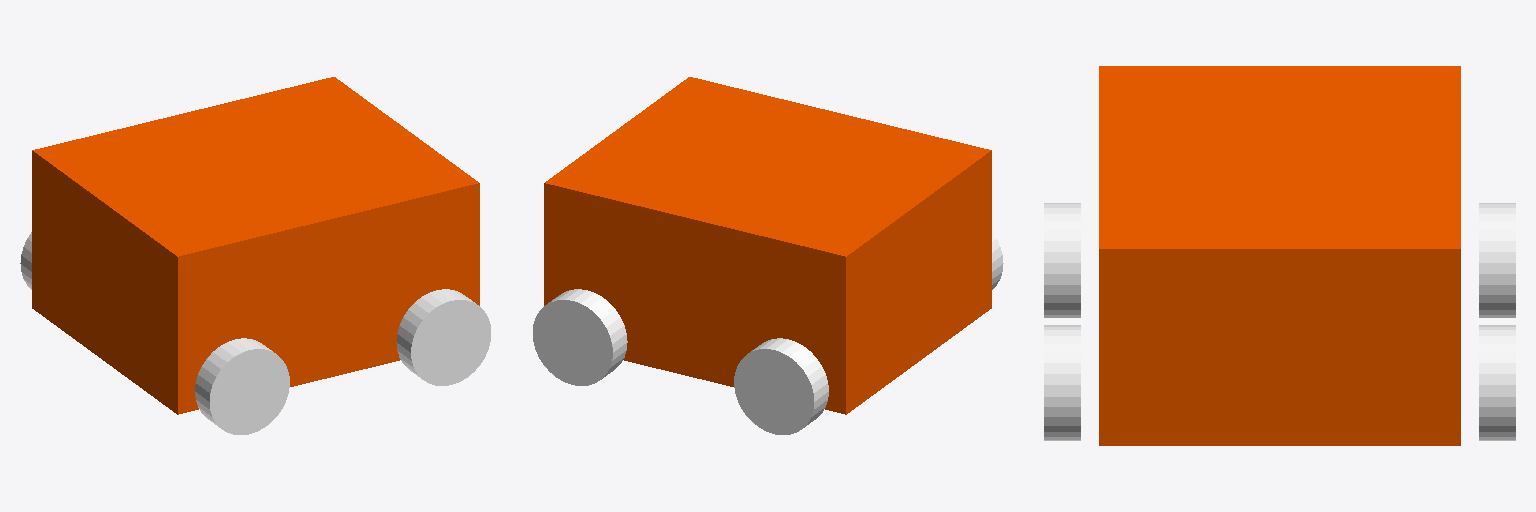
URDF robot description (abot):
<?xml version="1.0"?>
<robot name="abot"> 
<!--********************************xxxxxxxxx********************************-->
<!--********************************base_link********************************-->
	<link name="base_link">
		<visual>
		<origin xyz="0 0 0" rpy="0 0 0"/>
		<geometry>
			<box size="0.30 0.25 0.15"/>
		</geometry>
			<material name="yellow">
				<color rgba="1 0.4 0 0.5"/>
			</material>
		</visual>
	</link>
<!--********************************left_front_link********************************-->
	<link name="left_front_link">
		<visual>
			<origin xyz="0 0 0" rpy="1.5707 0 0"/>
			<geometry>
				<cylinder radius="0.04" length="0.025"/>
			</geometry>
			<material name="white">
				<color rgba="1 1 1 0.9"/>
			</material>
		</visual>
	</link>
	<joint name="left_front_joint" type="continuous">
		<origin xyz="0.10 0.15 -0.05" rpy="0 0 0"/>
		<parent link="base_link"/>
		<child link="left_front_link"/>
		<axis xyz="0 1 0"/>
	</joint>
<!--********************************left_back_link********************************-->
	<link name="left_back_link">
		<visual>
			<origin xyz="0 0 0" rpy="1.5707 0 0"/>
			<geometry>
				<cylinder radius="0.04" length="0.025"/>
			</geometry>
			<material name="white">
				<color rgba="1 1 1 0.9"/>
			</material>
		</visual>
	</link>
	<joint name="left_back_link" type="continuous">
		<origin xyz="-0.10 0.15 -0.05" rpy="0 0 0"/>
		<parent link="base_link"/>
		<child link="left_back_link"/>
		<axis xyz="0 1 0"/>
	</joint>
<!--********************************right_front_link********************************-->
	<link name="right_front_link">
		<visual>
			<origin xyz="0 0 0" rpy="1.5707 0 0"/>
			<geometry>
				<cylinder radius="0.04" length="0.025"/>
			</geometry>
			<material name="white">
				<color rgba="1 1 1 0.9"/>
			</material>
		</visual>
	</link>
	<joint name="right_front_link" type="continuous">
		<origin xyz="0.10 -0.15 -0.05" rpy="0 0 0"/>
		<parent link="base_link"/>
		<child link="right_front_link"/>
		<axis xyz="0 1 0"/>
	</joint>
<!--********************************right_back_link********************************-->
	<link name="right_back_link">
		<visual>
			<origin xyz="0 0 0" rpy="1.5707 0 0"/>
			<geometry>
				<cylinder radius="0.04" length="0.025"/>
			</geometry>
			<material name="white">
				<color rgba="1 1 1 0.9"/>
			</material>
		</visual>
	</link>
	<joint name="right_back_link" type="continuous">
		<origin xyz="-0.10 -0.15 -0.05" rpy="0 0 0"/>
		<parent link="base_link"/>
		<child link="right_back_link"/>
		<axis xyz="0 1 0"/>
	</joint>


</robot>

--- What the picture shows (computed from the rendered views, not written in the file) ---
The picture shows the robot from 3 angles, left to right: view 1: azimuth 30°, elevation 25°; view 2: azimuth 150°, elevation 25°; view 3: azimuth 270°, elevation 25°; orthographic projection.
Model abot with 5 links and 4 joints (4 continuous), rooted at base_link, posed all joints at 0.
Visible links, largest first — view 1: base_link, right_back_link, right_front_link; view 2: base_link, left_back_link, left_front_link; view 3: base_link, left_front_link, right_front_link, left_back_link, right_back_link.
Link boxes in pixels (x1=…): base_link: x1=32, y1=77, x2=479, y2=414; right_back_link: x1=195, y1=338, x2=289, y2=434; right_front_link: x1=396, y1=289, x2=490, y2=385; base_link: x1=544, y1=77, x2=991, y2=414; left_back_link: x1=734, y1=338, x2=828, y2=434; left_front_link: x1=533, y1=289, x2=627, y2=385; base_link: x1=1099, y1=66, x2=1460, y2=445; left_front_link: x1=1479, y1=325, x2=1515, y2=440; right_front_link: x1=1044, y1=325, x2=1080, y2=440; left_back_link: x1=1479, y1=203, x2=1515, y2=317; right_back_link: x1=1044, y1=203, x2=1080, y2=317.
Bounding box of the posed robot: 0.3 × 0.325 × 0.165 m (x, y, z).
Geometry: primitives only (box / cylinder / sphere), no mesh files.